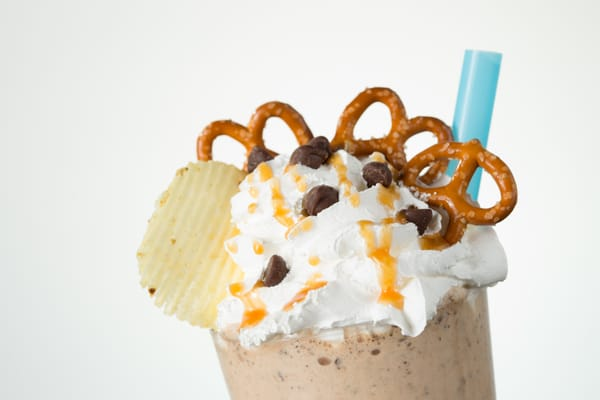sushi: (137, 85, 517, 376)
